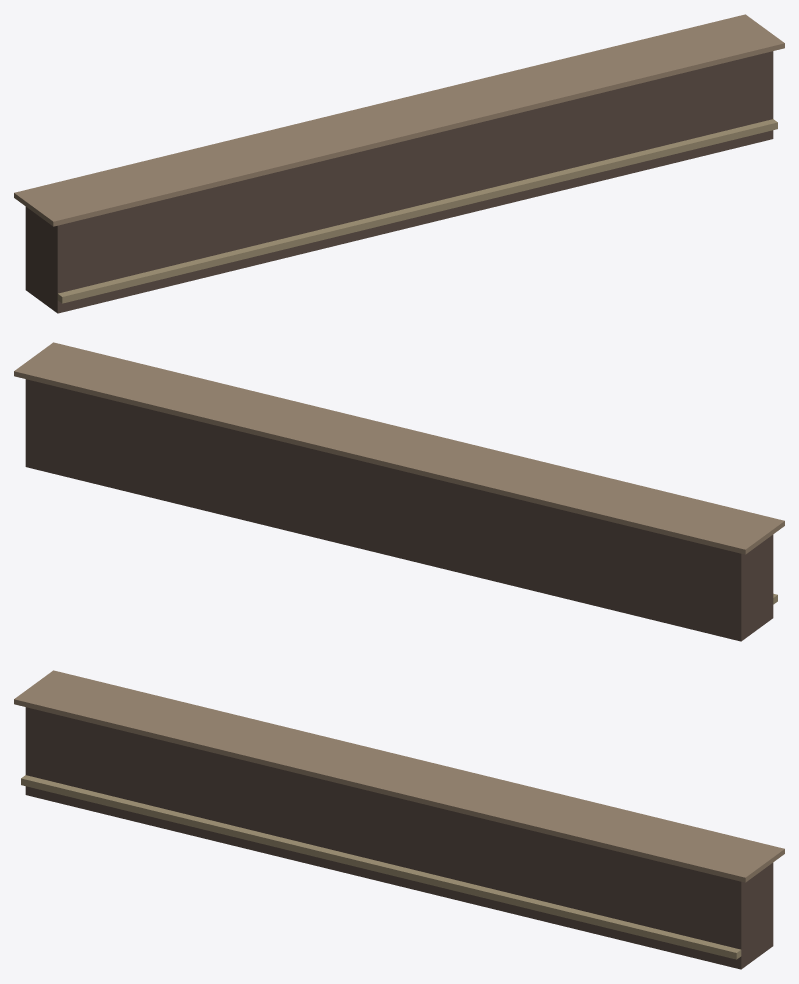
Rendered from barra_cafe.glb.
3 renders of one model, top to bottom at view 1: azimuth 30°, elevation 25°; view 2: azimuth 150°, elevation 25°; view 3: azimuth 330°, elevation 25°, orthographic.
Visible parts, largest first — view 1: BarraCafe; view 2: BarraCafe; view 3: BarraCafe.
Part boxes in pixels (x1,y1,x2,y2): BarraCafe: [14, 14, 784, 313]; BarraCafe: [14, 342, 784, 641]; BarraCafe: [14, 670, 784, 969].
Bounding box in the file's own units: 9.2 × 1.16 × 0.88.
